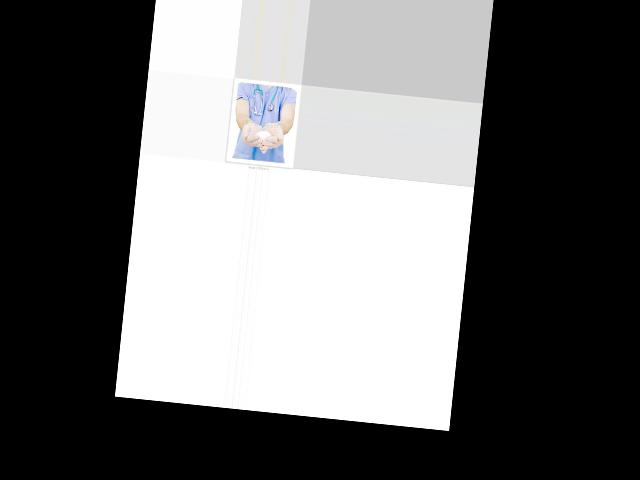egg: (255, 130, 271, 141)
